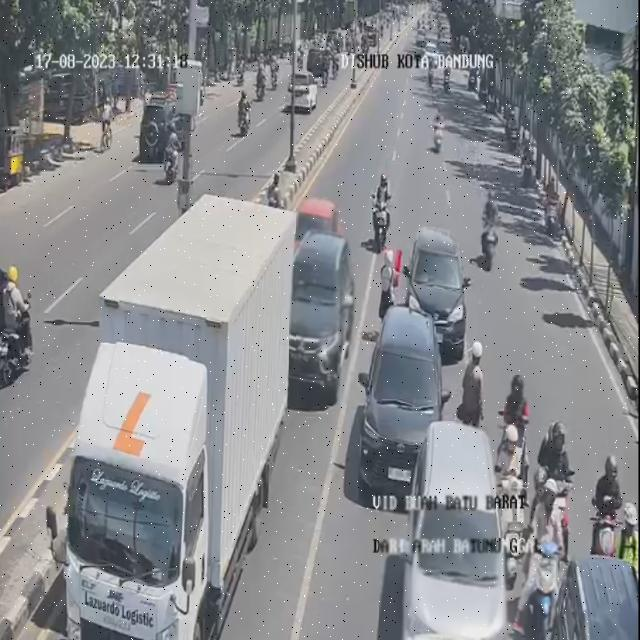cars: (379, 421, 510, 640), (360, 306, 445, 498), (290, 233, 354, 404), (296, 198, 357, 346), (408, 225, 473, 354), (555, 561, 640, 640)
motorcycle: (517, 478, 567, 638), (495, 429, 529, 542), (504, 376, 536, 488), (543, 423, 577, 527), (370, 172, 392, 256), (483, 189, 498, 270), (434, 104, 448, 155)
truck: (66, 200, 302, 640)
